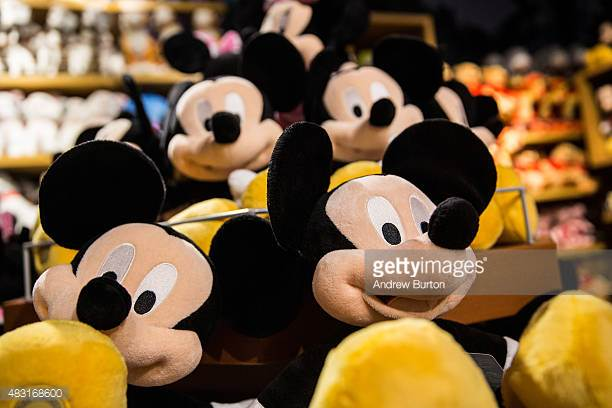Mickey: (29, 131, 272, 390), (262, 115, 503, 326)
